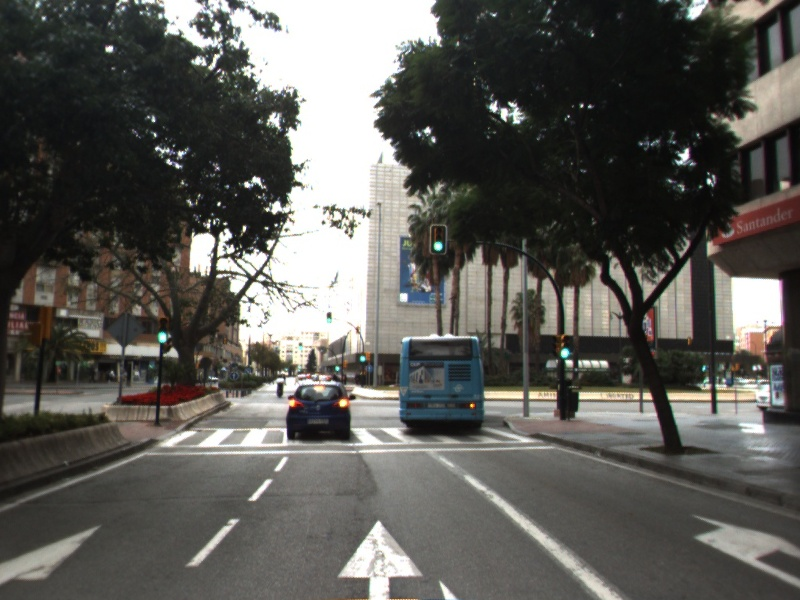RIGHT: (686, 508, 800, 593)
STRAIGHT: (333, 514, 427, 600), (1, 520, 107, 587)
